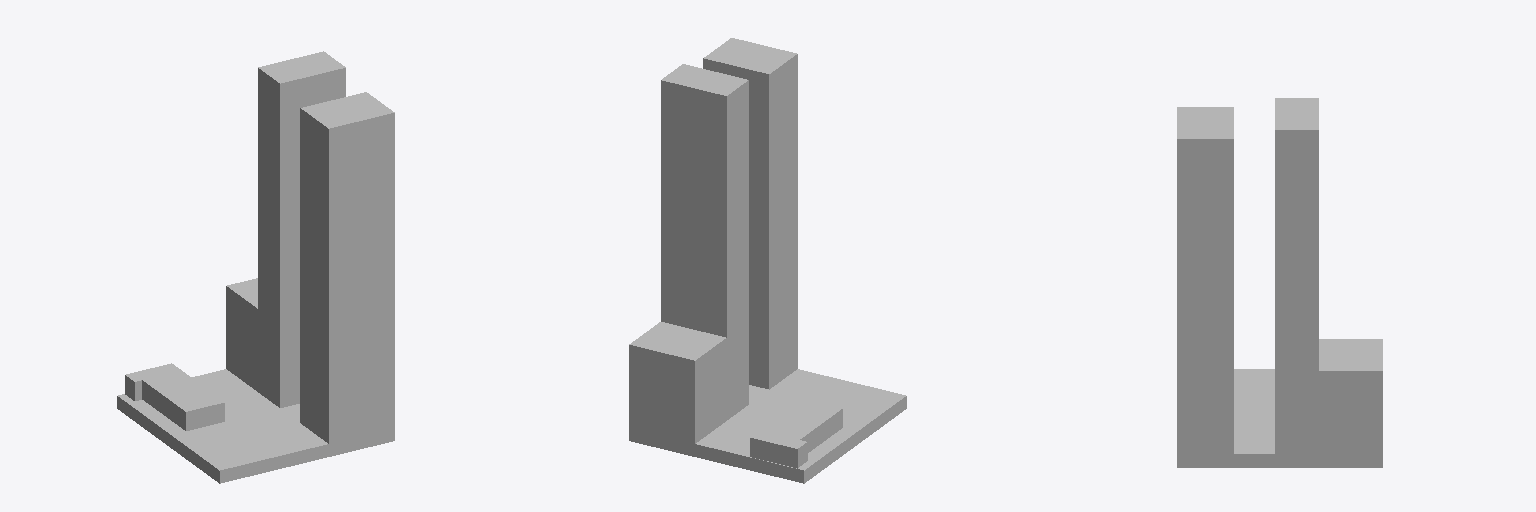
The model's file is VIGNETTE 1.obj.
The picture shows the model from 3 angles: view 1: azimuth 30°, elevation 25°; view 2: azimuth 150°, elevation 25°; view 3: azimuth 270°, elevation 25°; orthographic projection.
Parts seen in each view (by area): view 1: CAR main; view 2: CAR main; view 3: CAR main.
Part boxes in pixels (x1,y1,x2,y2): CAR main: (117, 51, 394, 483); CAR main: (629, 38, 906, 483); CAR main: (1177, 98, 1382, 467).
Size of the model in its own units: 97579 by 179800 by 98900.